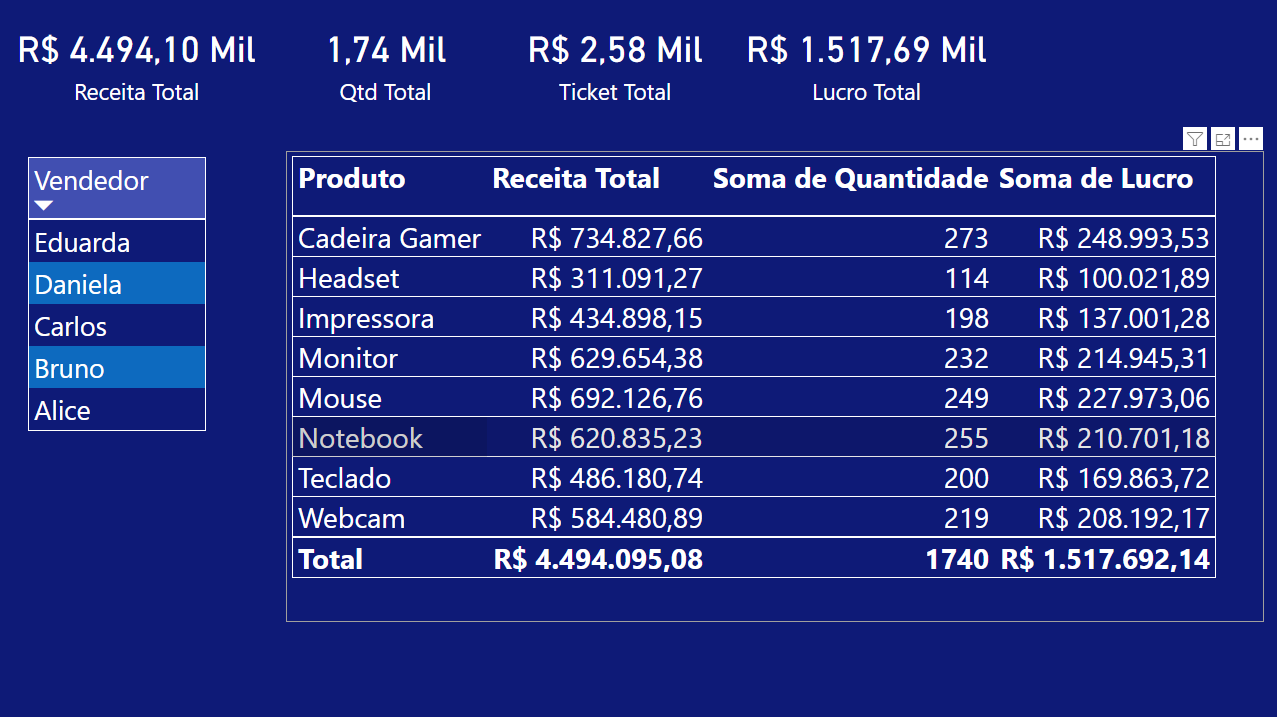

Layout of this report page (visuals, bound fields, positions):
{"tool":"powerbi","page":{"name":"Página 4","canvas":[1280,720],"ordinal":3},"visuals":[{"type":"tableEx","fields":{"Values":["Vendas.Produto","Medidas.Receita Total","Sum(Vendas.Quantidade)","Sum(Vendas.Lucro)"]},"box":[286.7,151.9,977.9,471],"z":0},{"type":"card","fields":{"Values":["Medidas.Receita Total"]},"box":[0,0,274.8,122.9],"z":1},{"type":"card","fields":{"Values":["Medidas.Qtd Total"]},"box":[274.8,0,223.6,122.9],"z":2},{"type":"card","fields":{"Values":["Medidas.Ticket Total"]},"box":[501.8,0,228.7,122.9],"z":3},{"type":"card","fields":{"Values":["Medidas.Lucro Total"]},"box":[730.5,0,274.8,122.9],"z":4},{"type":"tableEx","fields":{"Values":["Vendas.Vendedor"]},"box":[22.5,152.5,212.5,347.5],"z":5}]}

Visuals, with their boxes in screenshot pixels (x1, y1, x2, y2), scaled from the page's 1280x720 canvas onto the 1277x717 screenshot:
tableEx - Vendas.Produto x Medidas.Receita Total: bbox(286, 151, 1262, 620)
card - Medidas.Receita Total: bbox(0, 0, 274, 122)
card - Medidas.Qtd Total: bbox(274, 0, 497, 122)
card - Medidas.Ticket Total: bbox(501, 0, 729, 122)
card - Medidas.Lucro Total: bbox(729, 0, 1003, 122)
tableEx - Vendas.Vendedor: bbox(22, 152, 234, 498)
